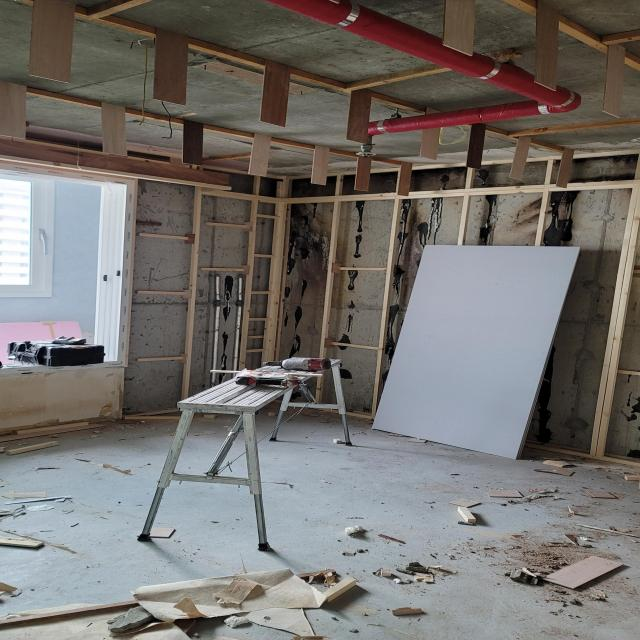board: (370, 244, 582, 460), (29, 0, 77, 84), (153, 26, 190, 106), (534, 0, 560, 91), (259, 59, 292, 128), (442, 0, 476, 56), (603, 44, 626, 118), (0, 80, 27, 139), (346, 88, 373, 144), (100, 102, 128, 156), (420, 106, 444, 160), (508, 136, 532, 180), (466, 122, 487, 170), (556, 146, 576, 188)
stud: (273, 180, 640, 467), (123, 191, 281, 418)
